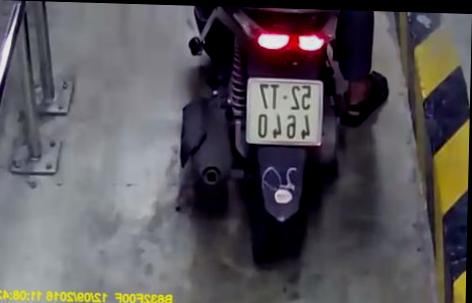License_Plate: (239, 73, 328, 155)
